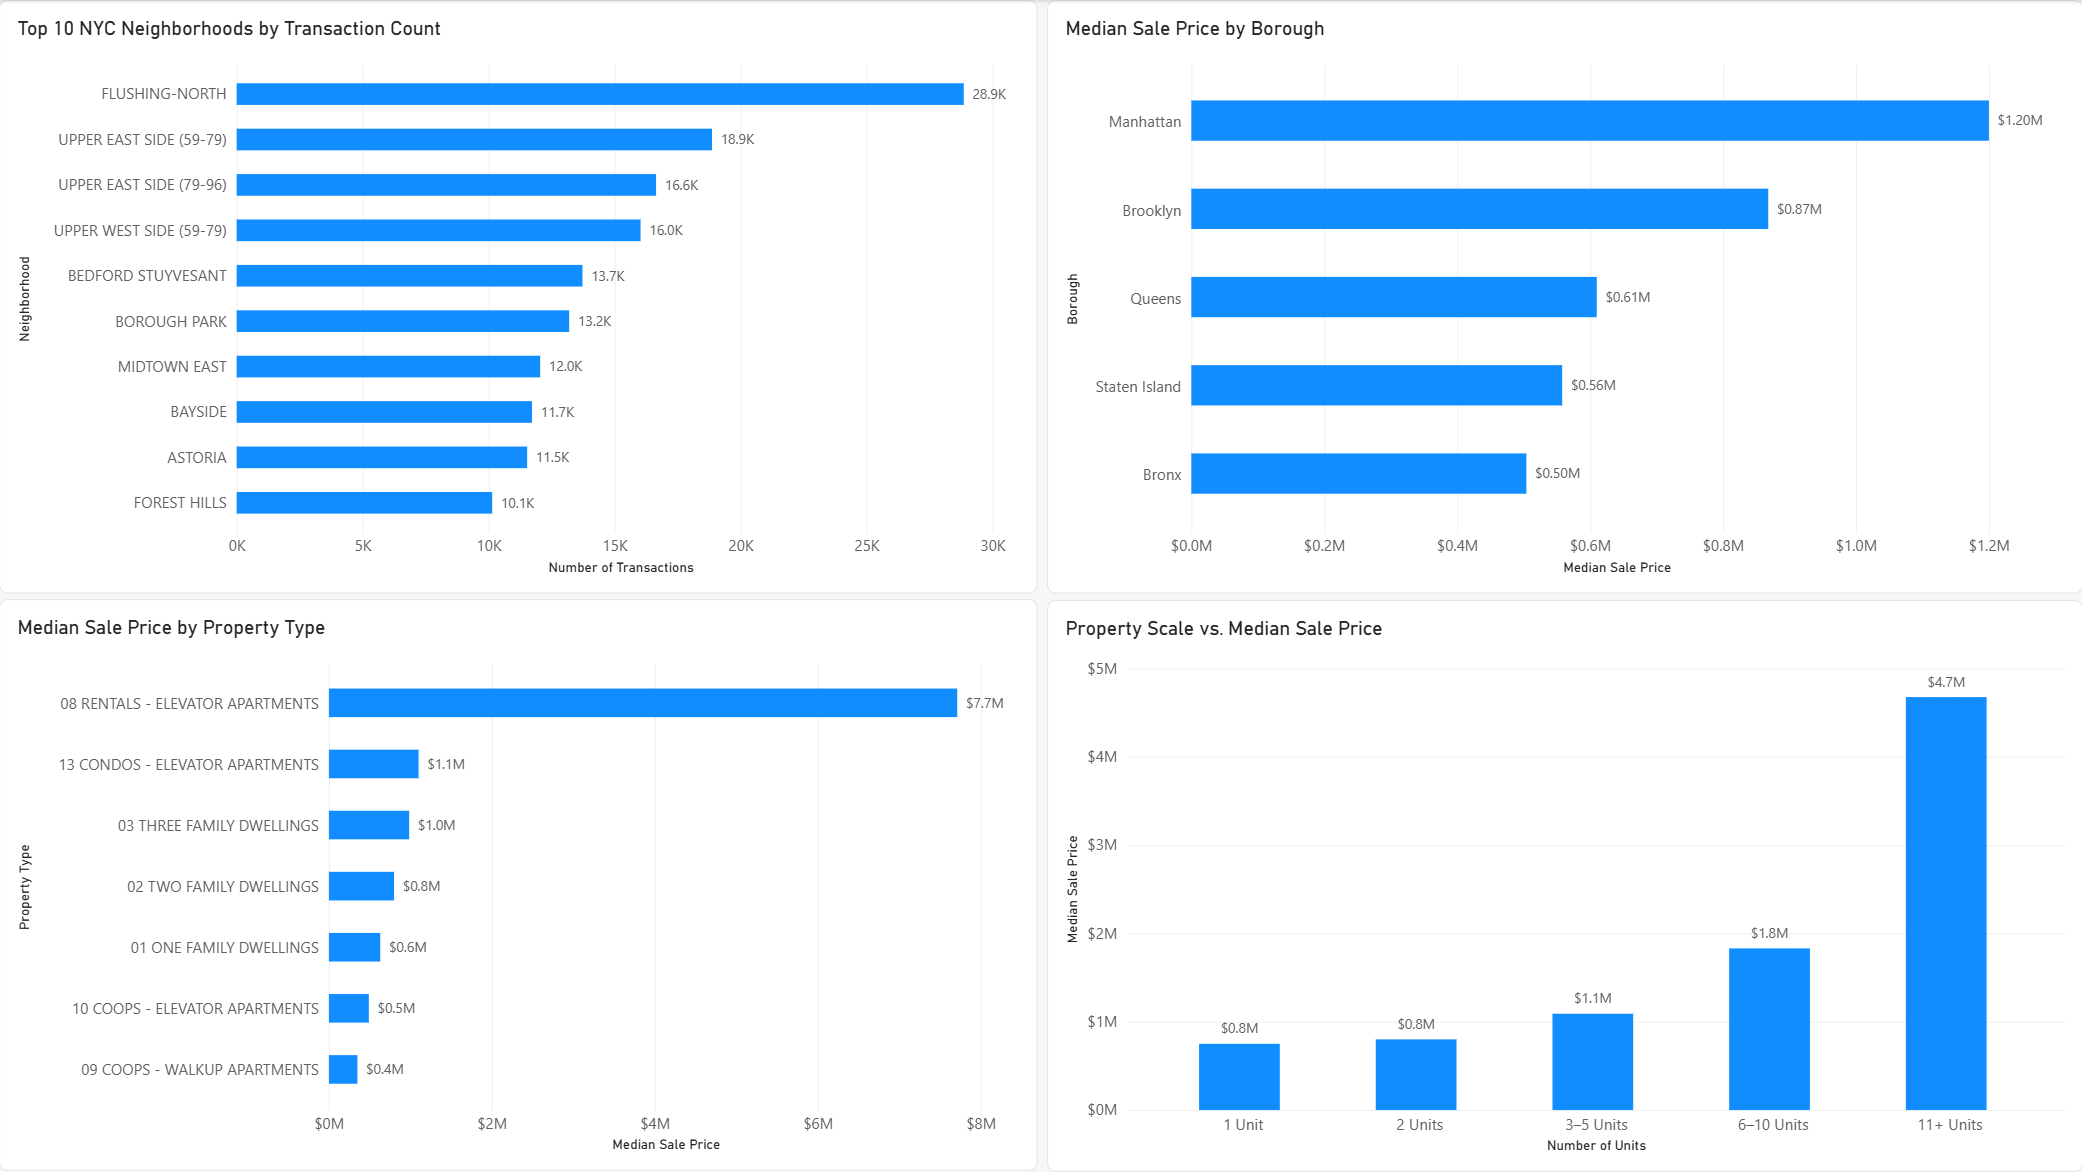

The dashboard page shown, as its layout file describes it:
{"tool":"powerbi","page":{"name":"Location & Property Characteristics","canvas":[1920,1080],"ordinal":2},"visuals":[{"type":"clusteredBarChart","title":"Top 10 NYC Neighborhoods by Transaction Count","fields":{"Category":["nyc_sales_property_cleaned.NEIGHBORHOOD"],"Y":["nyc_sales_property_cleaned.Total Transactions"]},"box":[0,0,960,547],"z":0,"group":"g3"},{"type":"group","id":"g1","title":"Group 1","box":[0,0,1920,547],"z":0},{"type":"clusteredBarChart","title":"Median Sale Price by Property Type","fields":{"Category":["nyc_sales_property_cleaned.BUILDING CLASS CATEGORY"],"Y":["nyc_sales_property_cleaned.Median Sale Price"]},"box":[0,552,960,527],"z":0,"group":"g2"},{"type":"clusteredBarChart","title":"Median Sale Price by Borough","fields":{"Category":["nyc_sales_property_cleaned.Borough Name"],"Y":["nyc_sales_property_cleaned.Median Sale Price"]},"box":[962.5,0,957.5,547],"z":1000,"group":"g3"},{"type":"group","id":"g2","title":"Group 2","box":[0,552,1920,528],"z":1000},{"type":"clusteredColumnChart","title":"Property Scale vs. Median Sale Price","fields":{"Category":["nyc_sales_property_cleaned.Unit Group"],"Y":["nyc_sales_property_cleaned.Median Sale Price"]},"box":[960,552,960,527],"z":1000,"group":"g2"},{"type":"group","id":"g3","title":"Group 3","box":[0,0,1920,547],"z":2002,"group":"g1"}]}

Visuals, with their boxes in screenshot pixels (x1, y1, x2, y2), scaled from the page's 1920x1080 canvas onto the 2082x1172 screenshot:
"Top 10 NYC Neighborhoods by Transaction Count" clusteredBarChart: detection(0, 0, 1041, 594)
"Group 1" group: detection(0, 0, 2081, 594)
"Median Sale Price by Property Type" clusteredBarChart: detection(0, 599, 1041, 1171)
"Median Sale Price by Borough" clusteredBarChart: detection(1044, 0, 2081, 594)
"Group 2" group: detection(0, 599, 2081, 1171)
"Property Scale vs. Median Sale Price" clusteredColumnChart: detection(1041, 599, 2081, 1171)
"Group 3" group: detection(0, 0, 2081, 594)
